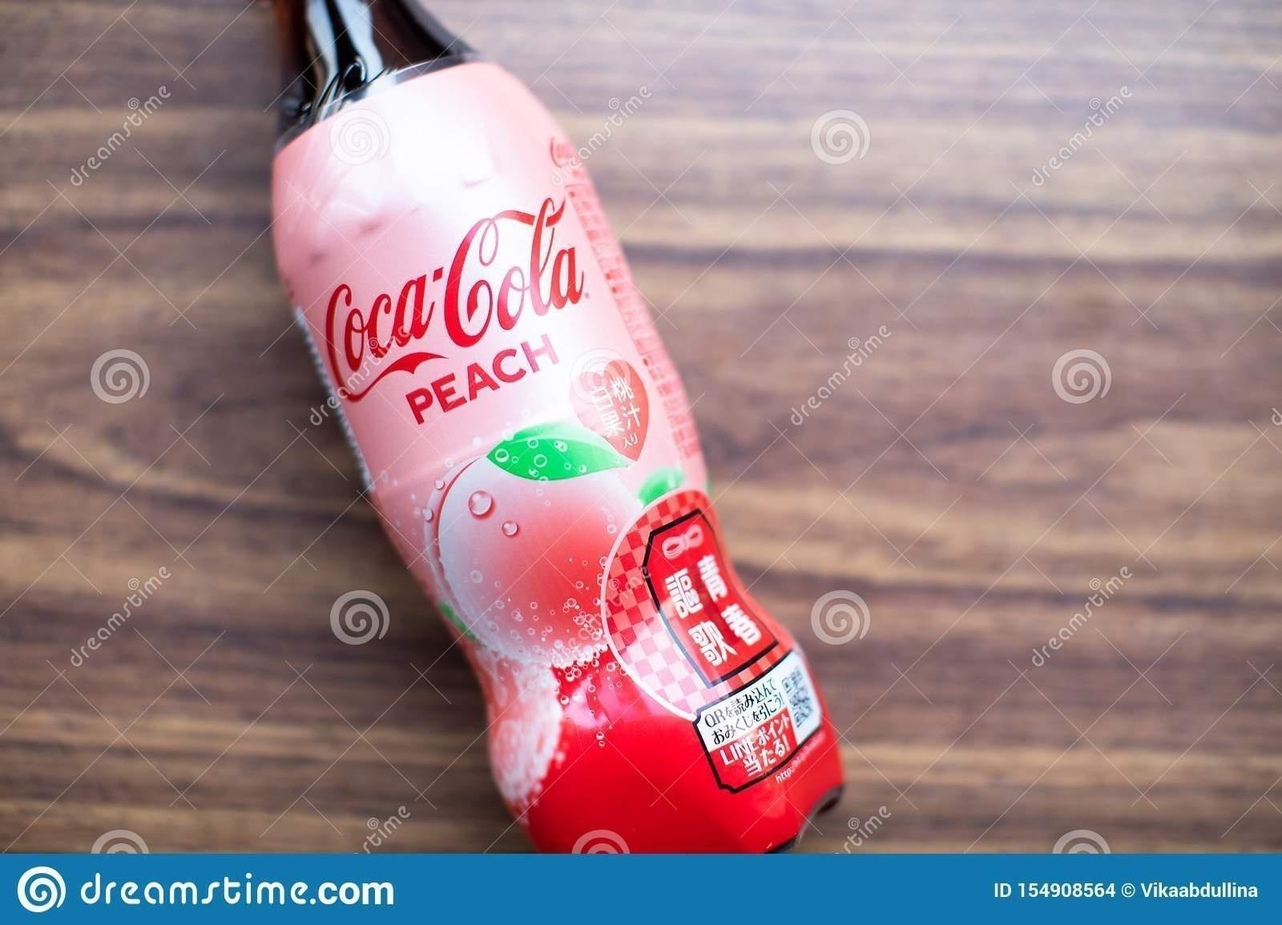bottle-plastic: (261, 1, 841, 859)
